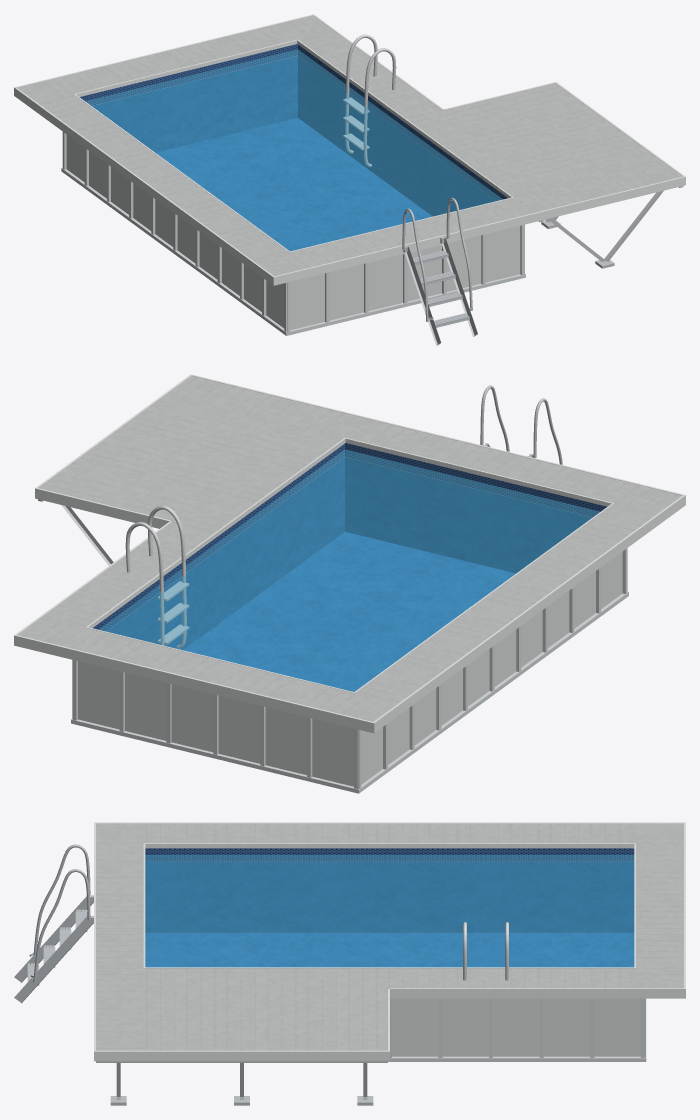
File: kayak-pool-12x20-white-l-ag-nofence.3bd311c79d.glb
3 renders of one model, top to bottom at view 1: azimuth 30°, elevation 25°; view 2: azimuth 150°, elevation 25°; view 3: azimuth 270°, elevation 25°, orthographic. The views are drawn at different scales.
Parts seen in each view (by area): view 1: water, deck, liner_wall, liner_floor, wall, fascia, upright, ladder, steel, stud; view 2: water, deck, liner_wall, liner_floor, wall, fascia, upright, steel, ladder; view 3: water, deck, liner_wall, liner_floor, wall, fascia, ladder, upright, stud, steel.
Part boxes in pixels (x1,y1,x2,y2): water: (85,49,502,250); deck: (17,15,682,276); liner_wall: (79,44,507,216); liner_floor: (156,118,432,251); wall: (66,134,520,330); fascia: (14,14,685,285); upright: (61,132,525,335); ladder: (402,197,477,345); steel: (343,34,396,167); stud: (539,186,683,268); water: (99,449,599,691); deck: (17,376,682,721); liner_wall: (93,443,606,649); liner_floor: (183,532,515,691); wall: (78,552,622,786); fascia: (14,374,685,733); upright: (71,548,628,793); steel: (125,505,189,648); ladder: (480,385,562,464); water: (145,854,634,967); deck: (96,823,683,1050); liner_wall: (145,848,634,932); liner_floor: (145,933,634,967); wall: (392,998,640,1056); fascia: (94,822,685,1061); ladder: (14,844,93,1003); upright: (388,998,646,1061); stud: (96,1061,387,1105); steel: (463,922,508,980).
Size of the model in its own units: 6.71 by 1.9 by 8.3.
10 materials, 3 textured.
